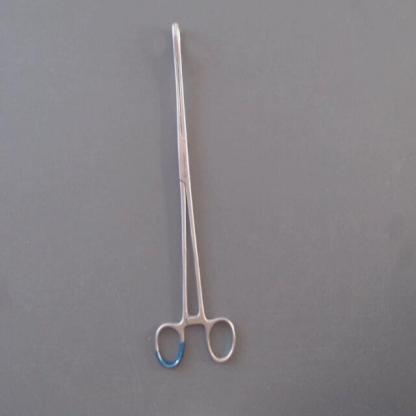Sponge Forceps: (150, 17, 244, 376)
